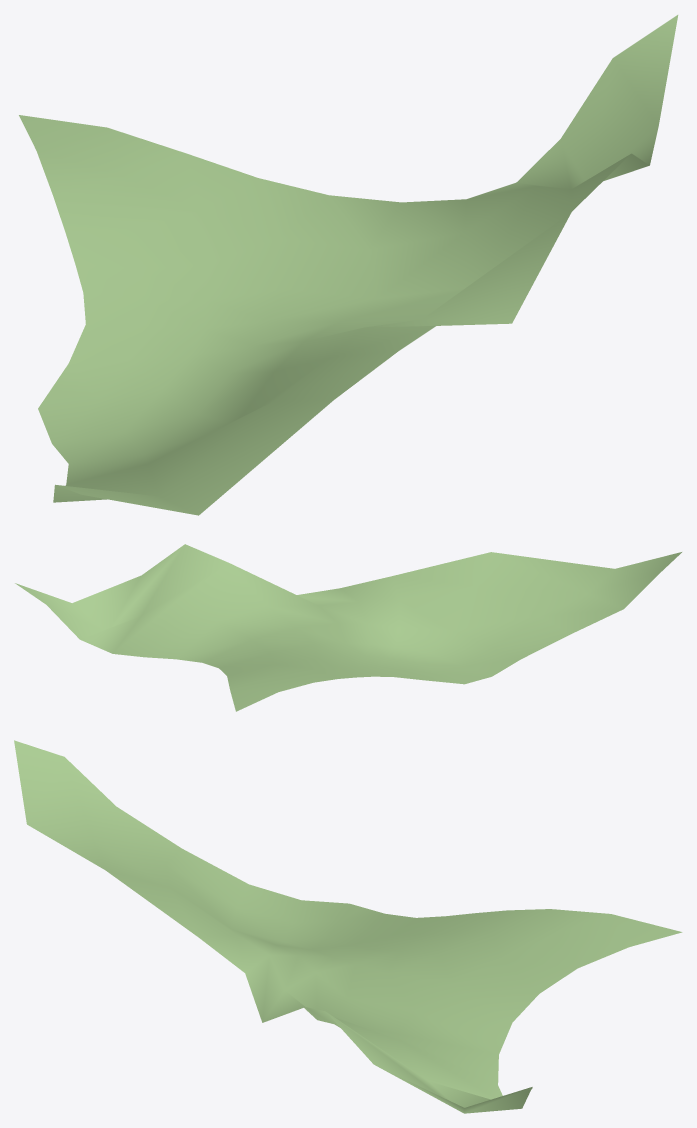
File: level_67.fbx
3 renders of one model, top to bottom at view 1: azimuth 30°, elevation 25°; view 2: azimuth 150°, elevation 25°; view 3: azimuth 270°, elevation 25°, orthographic. The views are drawn at different scales.
Parts seen in each view (by area): view 1: loc_067; view 2: loc_067; view 3: loc_067.
Boxes of the visible parts, bbox=[...] form: loc_067: bbox=[19, 15, 678, 515]; loc_067: bbox=[15, 544, 681, 711]; loc_067: bbox=[14, 740, 682, 1113].
Size of the model in its own units: 61.23 by 8.63 by 52.43.
